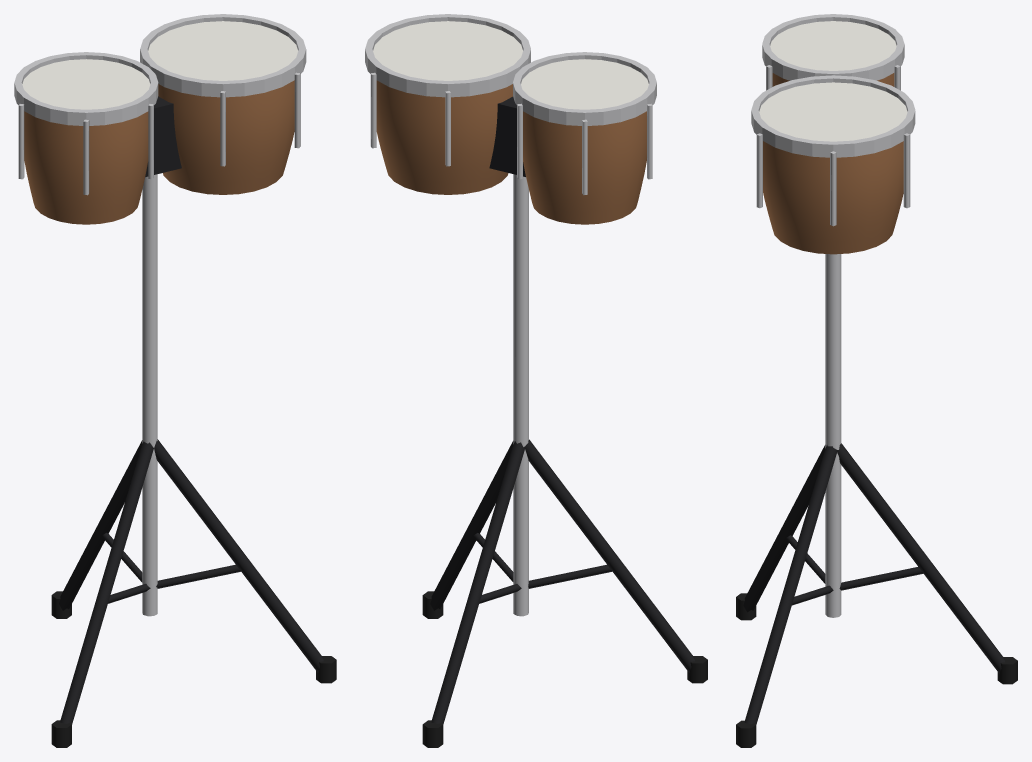
The model's file is bongos.glb.
3 views of the same model, side by side, from view 1: azimuth 30°, elevation 25°; view 2: azimuth 150°, elevation 25°; view 3: azimuth 270°, elevation 25° (orthographic).
Visible parts, largest first — view 1: shell-wood, metal, frame, head, rubber; view 2: shell-wood, metal, frame, head, rubber; view 3: metal, shell-wood, head, frame, rubber.
Boxes of the visible parts, left/top/right/bottom form: shell-wood: left=24, top=80, right=294, bottom=224; metal: left=14, top=14, right=306, bottom=616; frame: left=59, top=96, right=323, bottom=724; head: left=22, top=21, right=297, bottom=109; rubber: left=51, top=591, right=336, bottom=747; shell-wood: left=376, top=80, right=646, bottom=224; metal: left=365, top=14, right=656, bottom=616; frame: left=430, top=96, right=694, bottom=723; head: left=373, top=21, right=648, bottom=109; rubber: left=422, top=591, right=707, bottom=747; metal: left=751, top=14, right=915, bottom=617; shell-wood: left=763, top=73, right=903, bottom=254; head: left=759, top=21, right=907, bottom=141; frame: left=743, top=443, right=1004, bottom=724; rubber: left=736, top=593, right=1017, bottom=747.
Size of the model in its own units: 0.4565 by 0.92 by 0.388.
